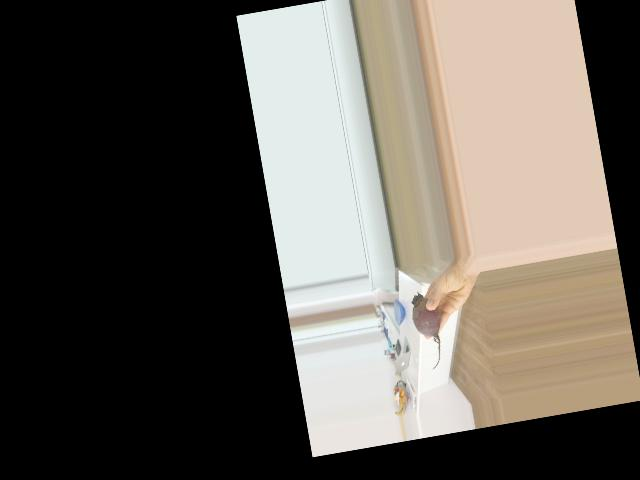beet: (408, 289, 449, 371)
